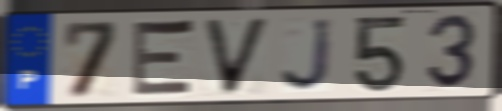3: (422, 11, 479, 94)
5: (351, 14, 409, 95)
7: (61, 19, 123, 101)
E: (128, 17, 198, 100)
J: (278, 16, 334, 94)
V: (200, 15, 274, 98)
